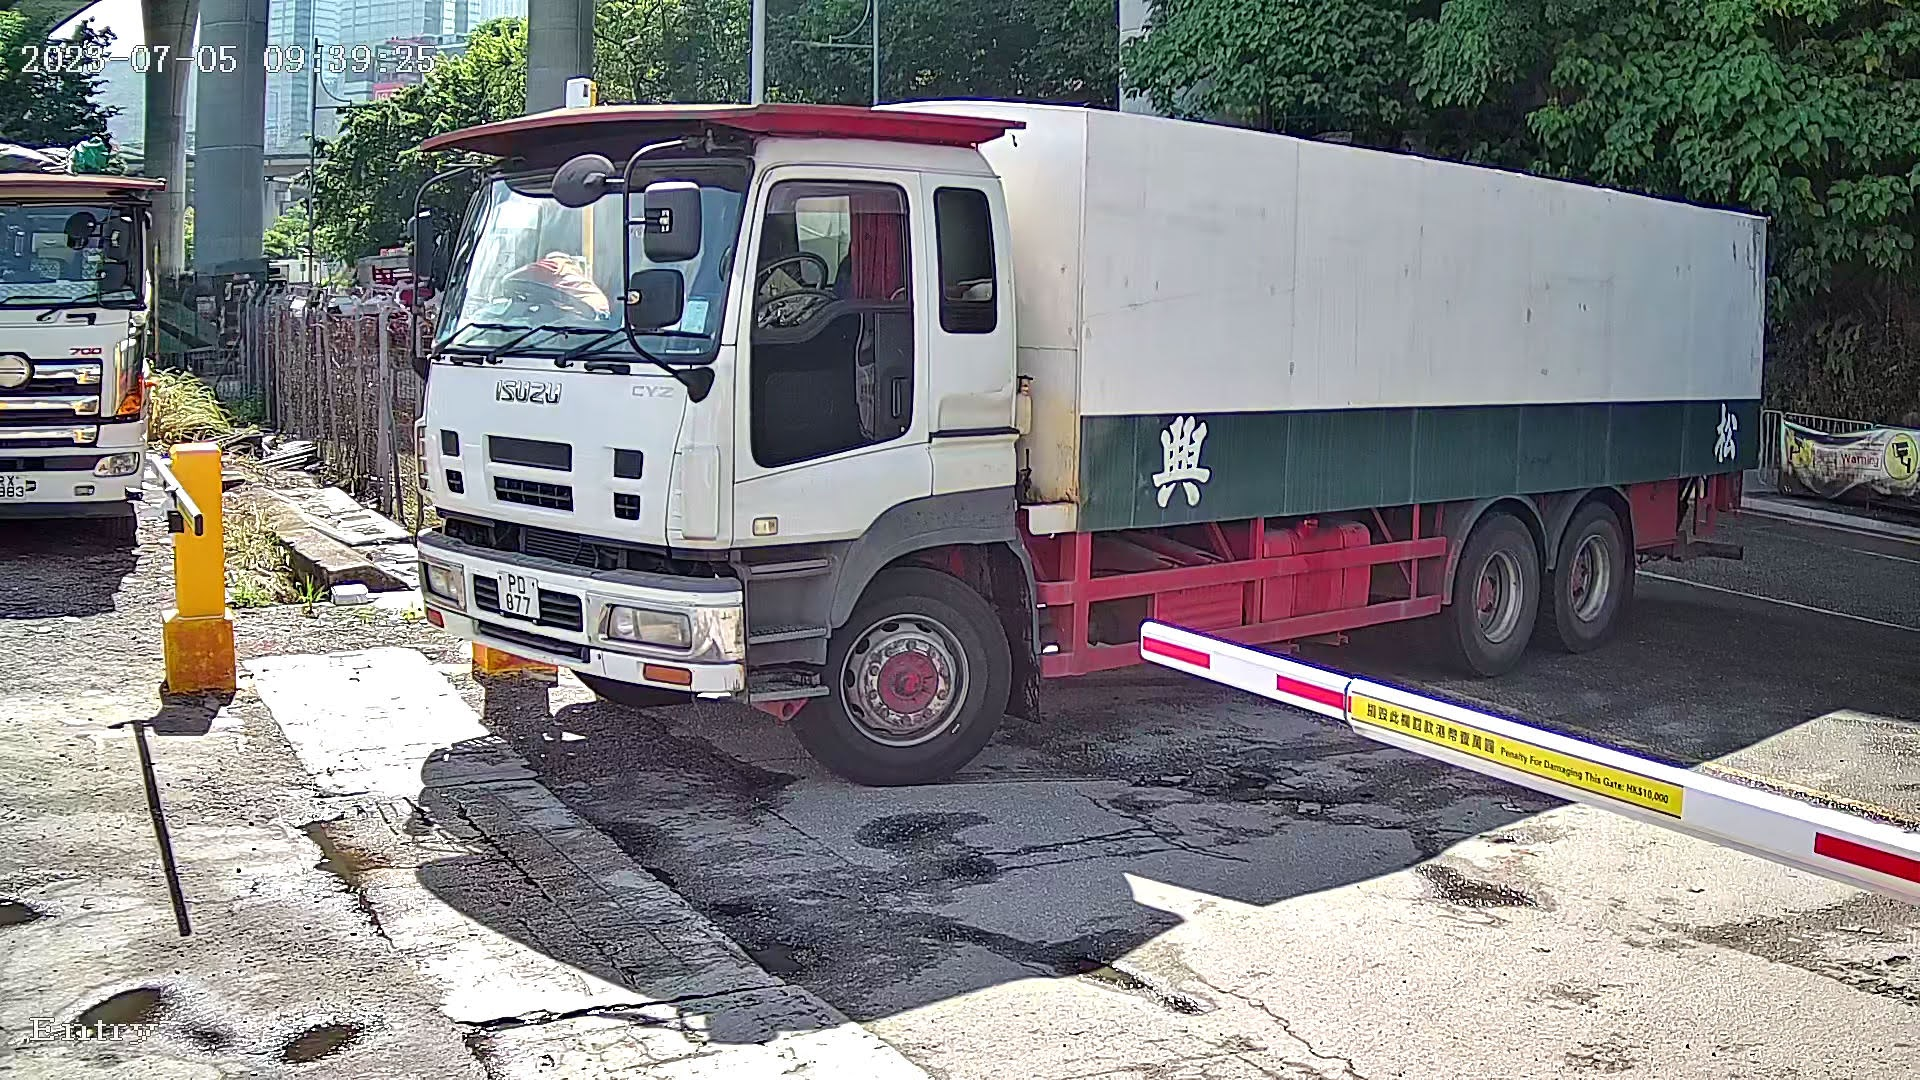truck: (417, 73, 1820, 793)
